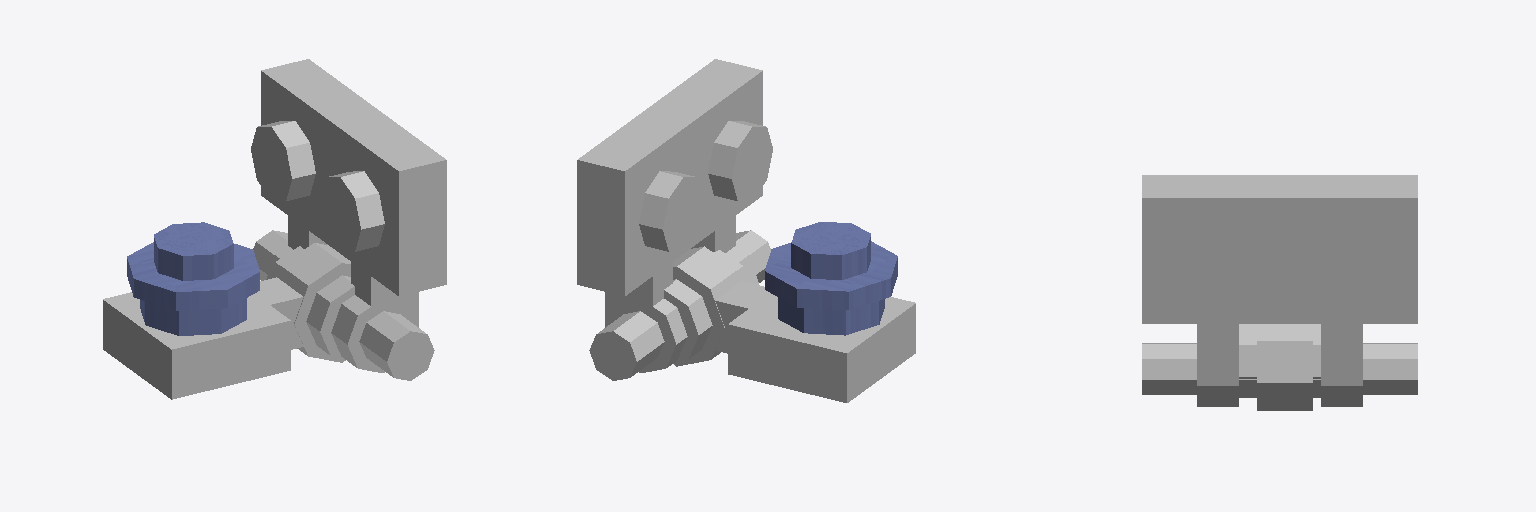
3 views of the same model, side by side, from view 1: azimuth 30°, elevation 25°; view 2: azimuth 150°, elevation 25°; view 3: azimuth 270°, elevation 25° (orthographic).
Parts seen in each view (by area): view 1: Mesh_0054_Mesh_0054Mesh, Mesh_0053_Mesh_0053Mesh, Mesh_0151_Mesh_0151Mesh; view 2: Mesh_0054_Mesh_0054Mesh, Mesh_0053_Mesh_0053Mesh, Mesh_0151_Mesh_0151Mesh; view 3: Mesh_0054_Mesh_0054Mesh, Mesh_0053_Mesh_0053Mesh.
Boxes of the visible parts, box(x1,y1,x2,y2) form: Mesh_0054_Mesh_0054Mesh: box(251, 59, 446, 380); Mesh_0053_Mesh_0053Mesh: box(103, 243, 354, 399); Mesh_0151_Mesh_0151Mesh: box(127, 222, 259, 335); Mesh_0054_Mesh_0054Mesh: box(577, 59, 772, 380); Mesh_0053_Mesh_0053Mesh: box(664, 246, 915, 402); Mesh_0151_Mesh_0151Mesh: box(765, 222, 897, 335); Mesh_0054_Mesh_0054Mesh: box(1142, 175, 1417, 406); Mesh_0053_Mesh_0053Mesh: box(1239, 324, 1320, 410).
Size of the model in its own units: 0.1564 by 0.1425 by 0.1524.
2 materials, 1 textured.